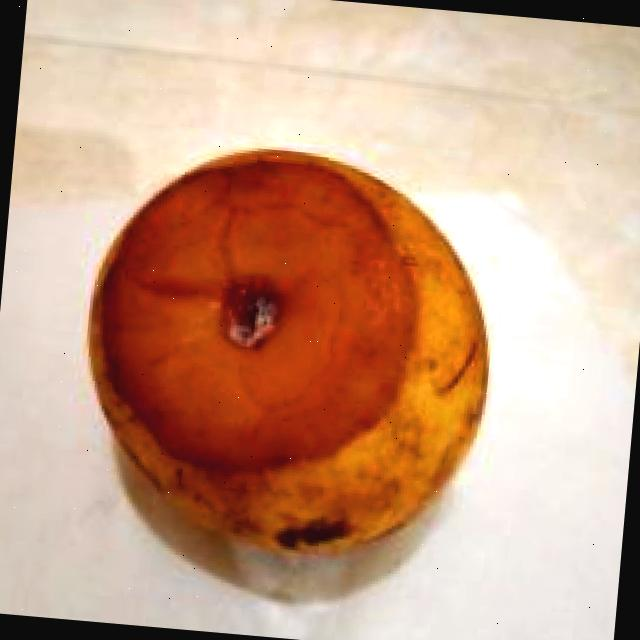rotten apple: (30, 104, 543, 626)
